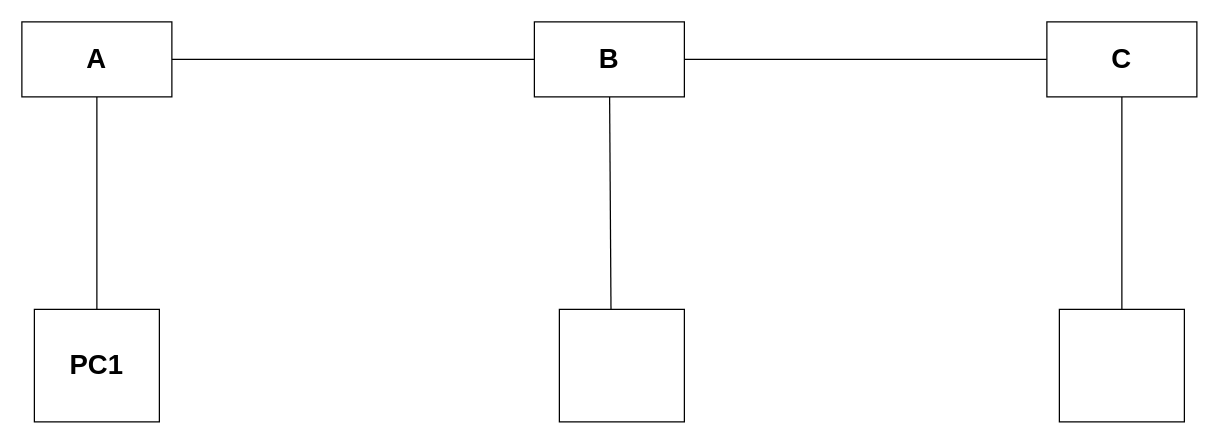
Image size: 1219x444. Some labels were removed from this diagram. Each missing label, with the box of its shape:
PC2: (558, 308, 684, 422)
PC3: (1058, 308, 1184, 422)
